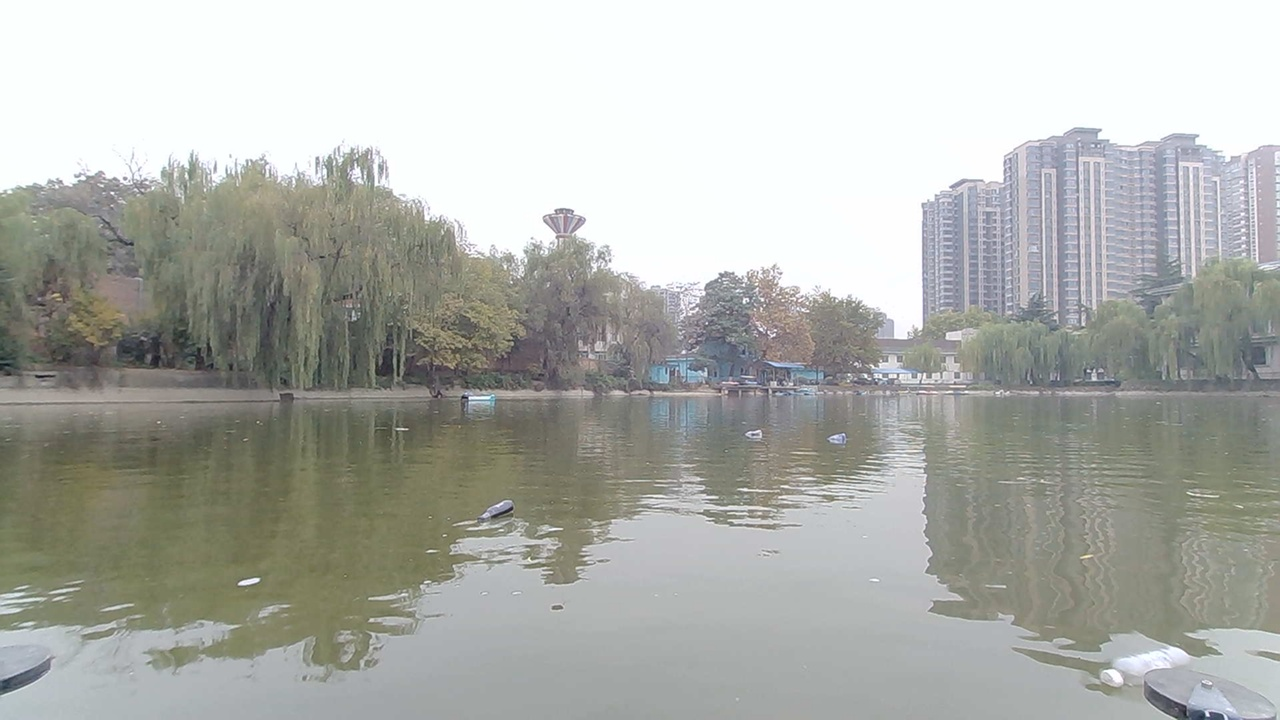bottle: (1085, 604, 1209, 680), (742, 414, 772, 445), (485, 503, 515, 525), (820, 430, 853, 447)
